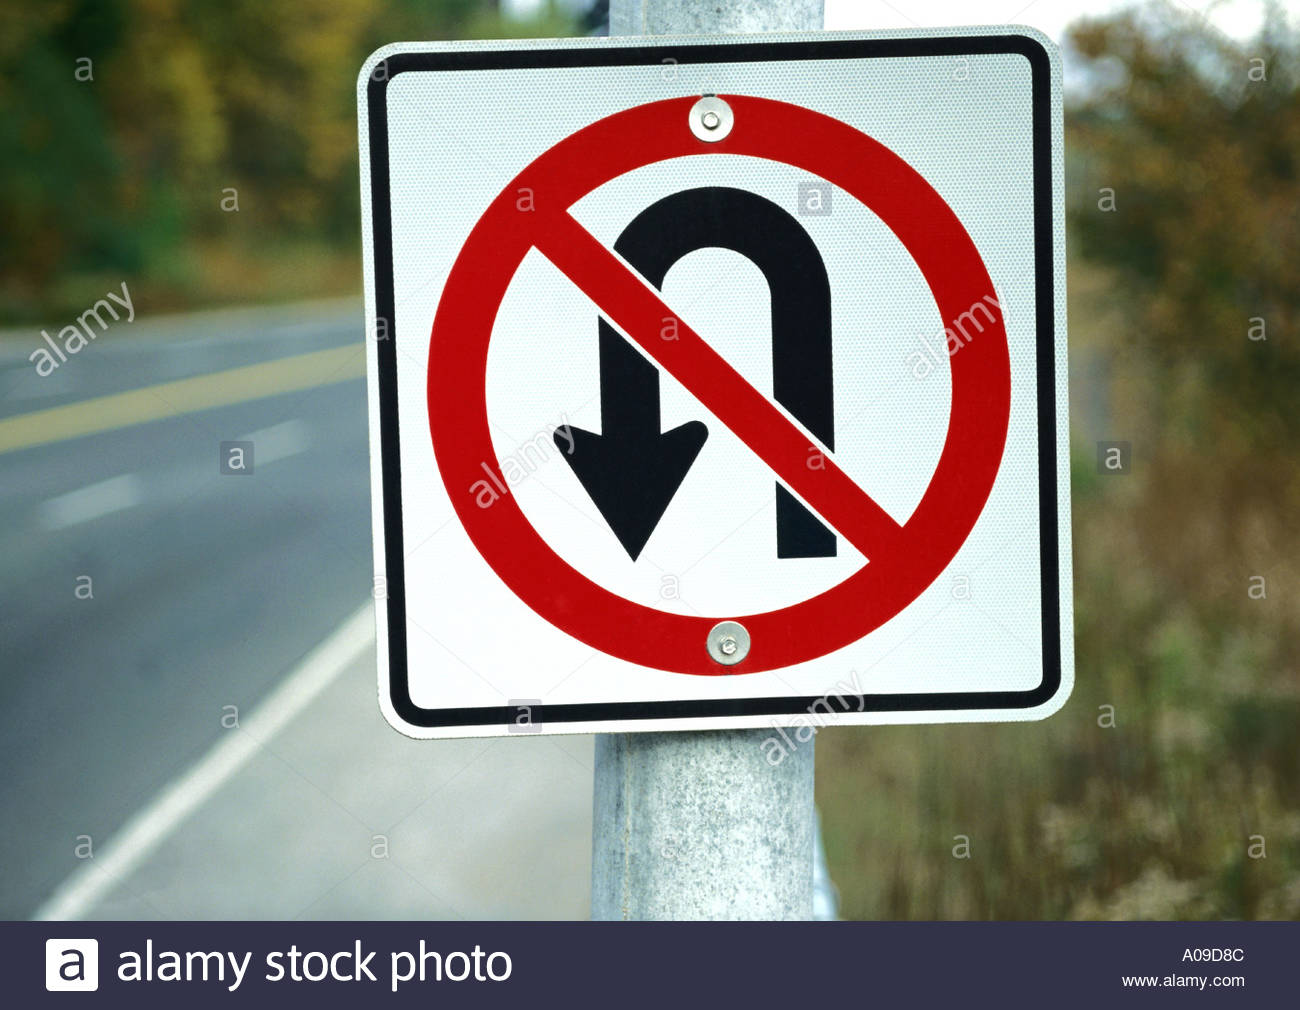No_u_turn: (431, 93, 1012, 672)
